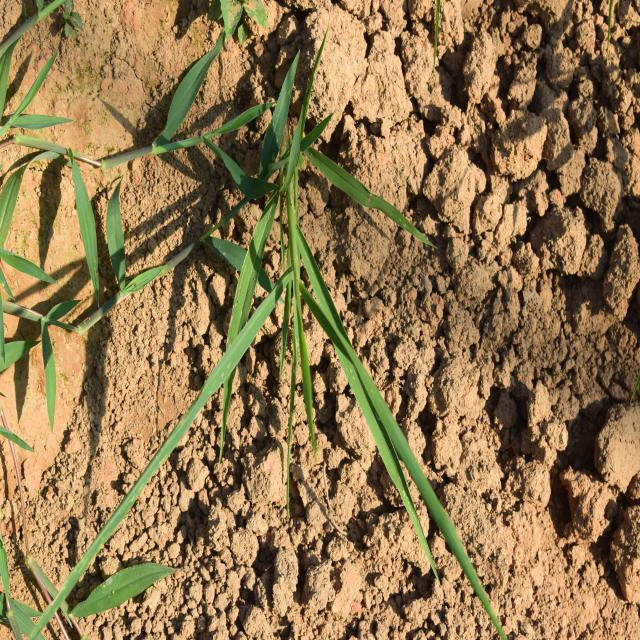green_foxtail: (192, 177, 436, 506)
